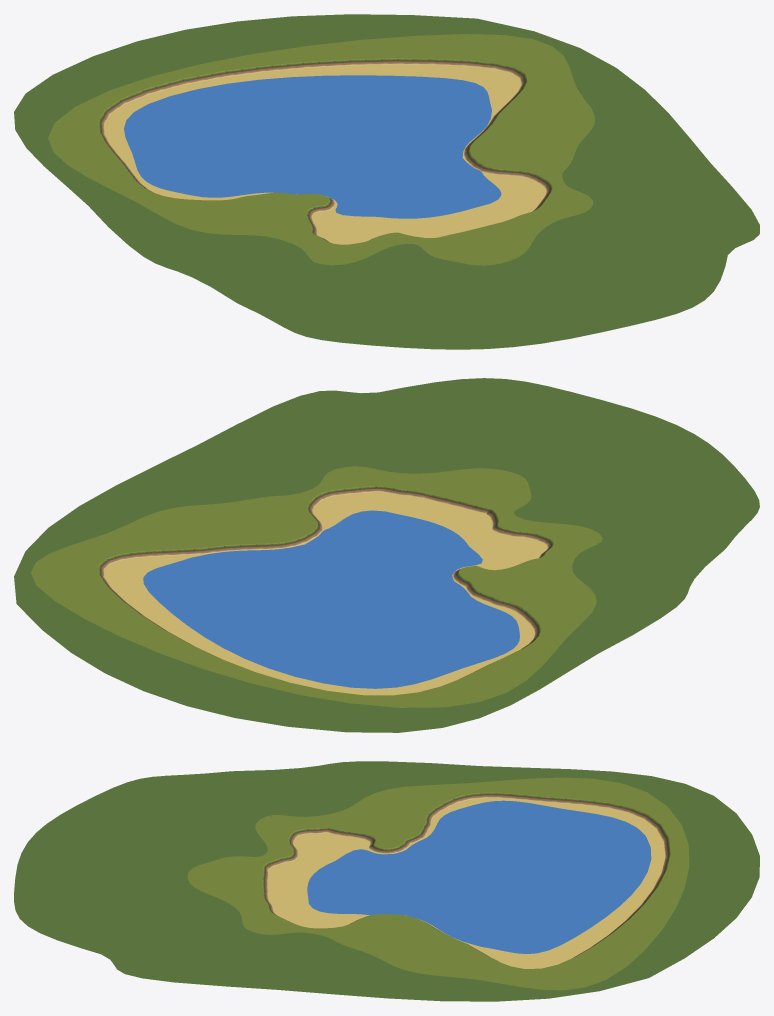
Rendered from TerrainSingle.fbx.
3 renders of one model, top to bottom at view 1: azimuth 30°, elevation 25°; view 2: azimuth 150°, elevation 25°; view 3: azimuth 270°, elevation 25°, orthographic. The views are drawn at different scales.
Visible parts, largest first — view 1: Cluster7; view 2: Cluster7; view 3: Cluster7.
Part boxes in pixels (<box>): Cluster7: <box>14,14,759,349</box>; Cluster7: <box>14,378,759,732</box>; Cluster7: <box>14,761,759,1001</box>.
Bounding box in the file's own units: 63.68 × 0.3937 × 83.5.
7 materials, 7 textured.
